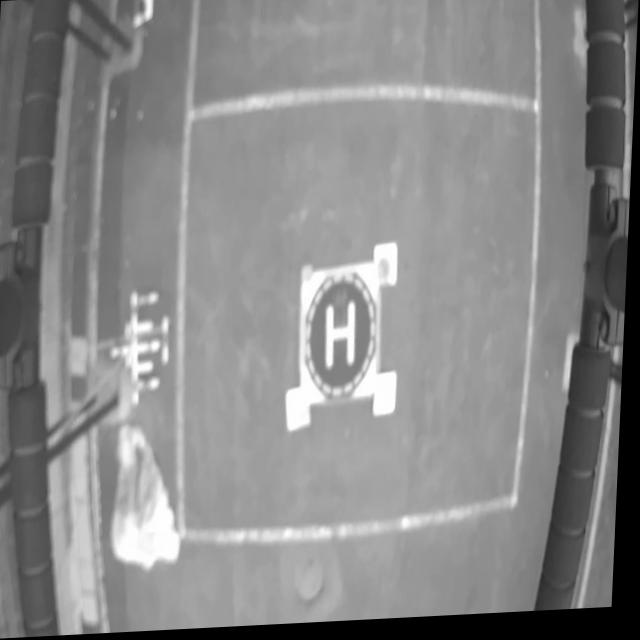Helipad: (328, 304, 357, 372)
